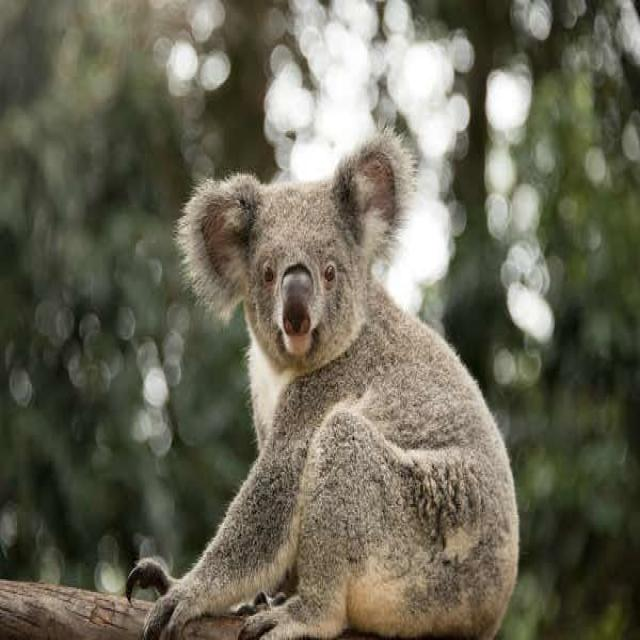koala: (128, 128, 518, 638)
